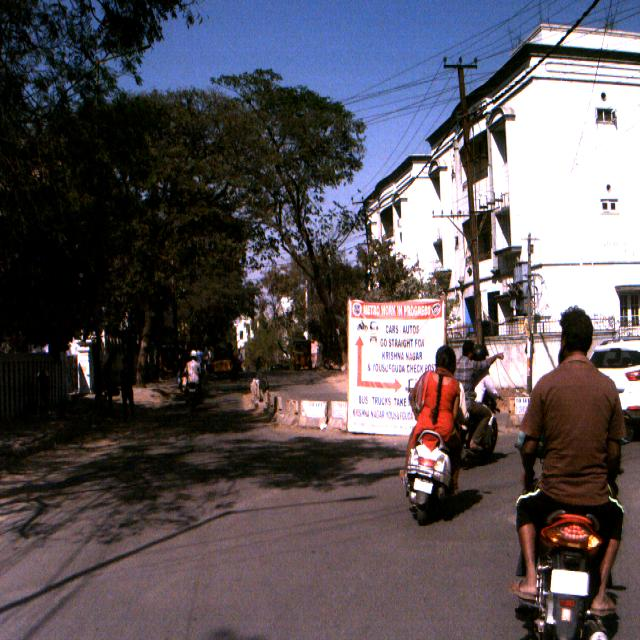motorcycle ahead at: (534, 508, 605, 640), (403, 426, 464, 516)
